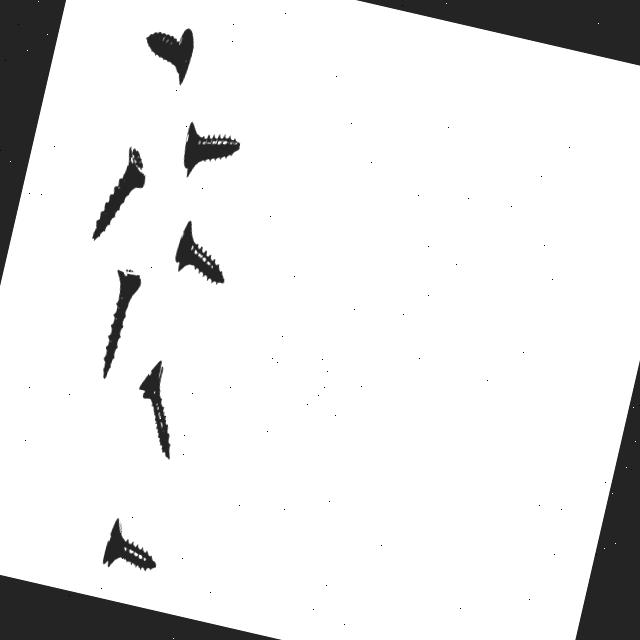Screw: (91, 147, 144, 240), (102, 271, 139, 380), (174, 222, 223, 285), (183, 122, 238, 178), (138, 362, 169, 460), (101, 520, 154, 573), (145, 28, 192, 85)
